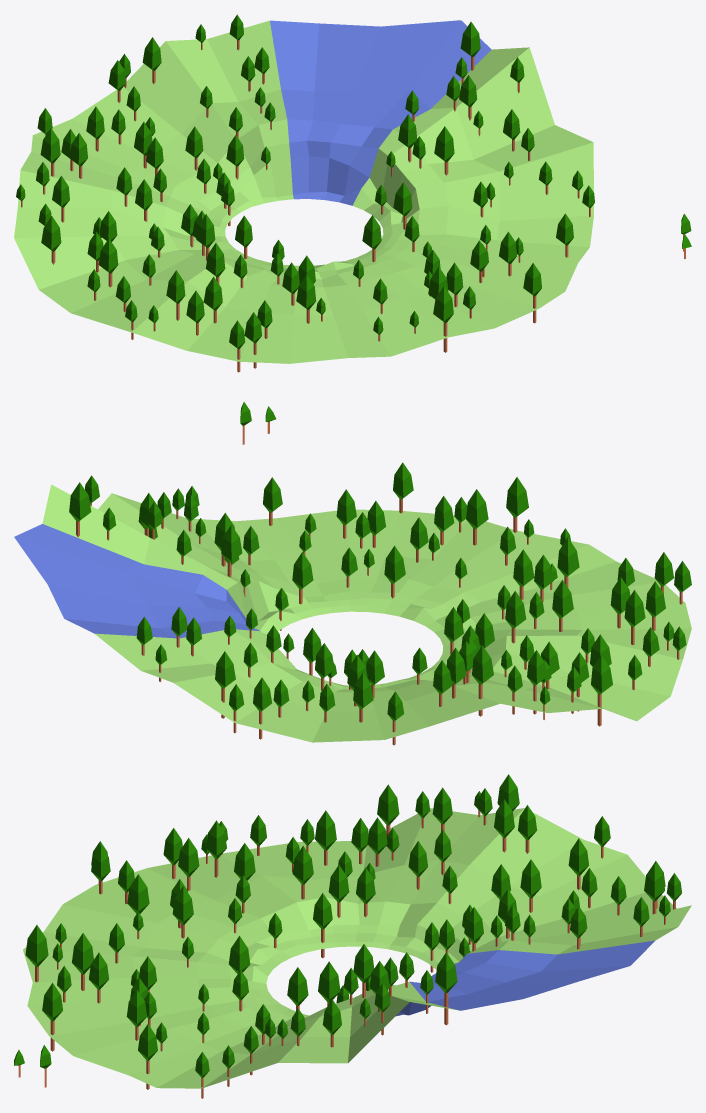
Rendered from waterfallpond2.glb.
3 views of the same model, one above another, from view 1: azimuth 30°, elevation 25°; view 2: azimuth 150°, elevation 25°; view 3: azimuth 270°, elevation 25° (orthographic). The views are drawn at different scales.
Visible parts, largest first — view 1: Circle, Circle.001, Cylinder.032 (×4); view 2: Circle, Cylinder.032 (×25), Circle.001; view 3: Circle, Cylinder.032 (×35), Circle.001.
Part boxes in pixels (<box>): Circle: <box>14,20,593,363</box>; Circle.001: <box>270,20,491,205</box>; Cylinder.032 (×4): <box>41,126,454,352</box>; Circle: <box>42,484,691,742</box>; Cylinder.032 (×25): <box>69,462,665,739</box>; Circle.001: <box>14,524,260,638</box>; Circle: <box>23,808,691,1088</box>; Cylinder.032 (×35): <box>25,774,664,1089</box>; Circle.001: <box>396,940,654,1016</box>.
Bounding box in the file's own units: 90.07 × 24.22 × 92.38.
